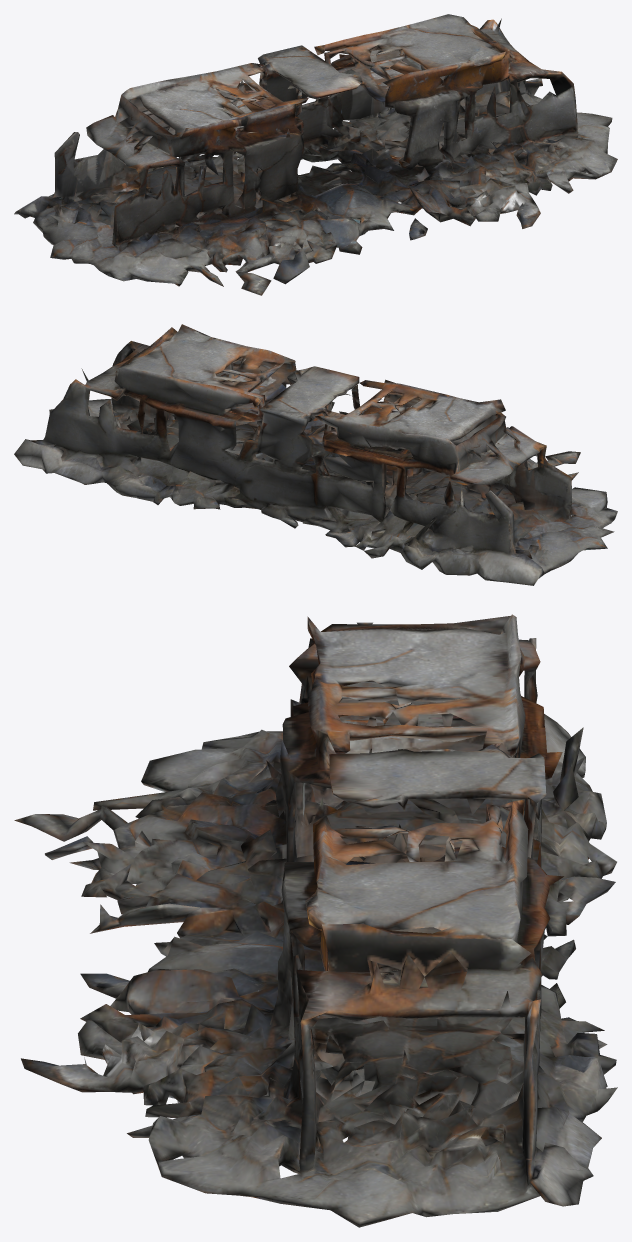
Rendered from CityDebris_4.fbx.
The picture shows the model from 3 angles, top to bottom: view 1: azimuth 30°, elevation 25°; view 2: azimuth 150°, elevation 25°; view 3: azimuth 270°, elevation 25°; orthographic projection. The views are drawn at different scales.
Visible parts, largest first — view 1: Mesh_0; view 2: Mesh_0; view 3: Mesh_0.
Boxes of the visible parts, x1=… form: Mesh_0: x1=14, y1=14, x2=617, y2=295; Mesh_0: x1=14, y1=324, x2=617, y2=585; Mesh_0: x1=14, y1=614, x2=617, y2=1227.
Size of the model in its own units: 201 by 39.65 by 99.75.
Materials: 1 (1 with a texture image).
